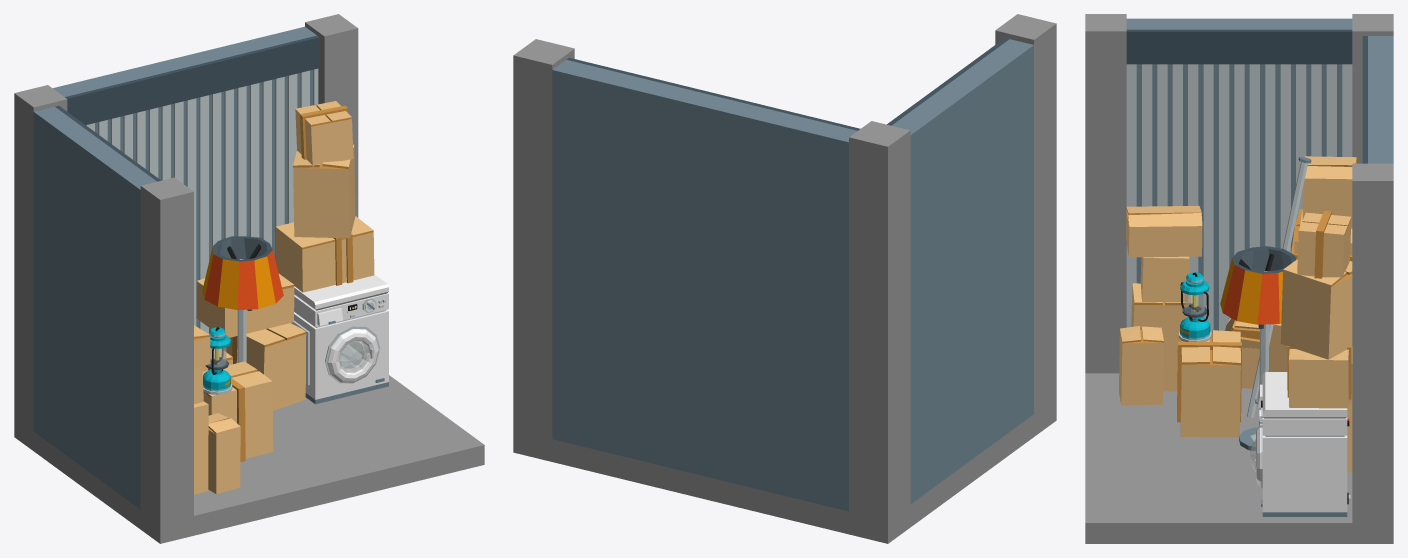
Rendered from scene_XHfKQj6GqX.glb.
3 views of the same model, side by side, from view 1: azimuth 30°, elevation 25°; view 2: azimuth 150°, elevation 25°; view 3: azimuth 270°, elevation 25° (orthographic). The views are drawn at different scales.
Parts seen in each view (by area): view 1: group1795877011, group265941632, group1376369656, group5960018, group949337141, group1230994830, group1651103497, group2018560499, group1634244934, group2086031803, group669103593, group1033397066 (+19 smaller); view 2: group949337141, group1795877011, group1651103497, group669103593, group265941632, group1376369656, group1230994830, group2117793300; view 3: group265941632, group614783319, group1795877011, group669103593, group1376369656, group5960018, group2117793300, group1033397066, group2086031803, group2018560499, group467543358, group1634244934 (+14 smaller).
Boxes of the visible parts, box(x1,y1,x2,y2) form: group1795877011: box(33, 106, 156, 509); group265941632: box(14, 375, 484, 543); group1376369656: box(140, 177, 193, 523); group5960018: box(291, 274, 388, 404); group949337141: box(53, 26, 316, 329); group1230994830: box(65, 35, 319, 124); group1651103497: box(14, 85, 67, 430); group2018560499: box(202, 236, 283, 362); group1634244934: box(275, 216, 374, 292); group2086031803: box(293, 144, 355, 238); group669103593: box(305, 14, 358, 217); group1033397066: box(202, 361, 273, 462); group949337141: box(552, 60, 857, 511); group1795877011: box(891, 39, 1033, 503); group1651103497: box(849, 121, 910, 520); group669103593: box(513, 39, 574, 438); group265941632: box(513, 398, 1056, 543); group1376369656: box(995, 14, 1056, 413); group1230994830: box(566, 57, 860, 130); group2117793300: box(887, 38, 1009, 125); group265941632: box(1085, 373, 1393, 543); group614783319: box(1126, 64, 1352, 333); group1795877011: box(1126, 18, 1352, 330); group669103593: box(1352, 163, 1393, 522); group1376369656: box(1085, 14, 1126, 373); group5960018: box(1250, 372, 1350, 516); group2117793300: box(1126, 29, 1352, 64); group1033397066: box(1177, 330, 1241, 437); group2086031803: box(1280, 259, 1352, 359); group2018560499: box(1220, 246, 1296, 451); group467543358: box(1126, 205, 1202, 257); group1634244934: box(1287, 345, 1351, 408).
Size of the model in its own units: 1.54 by 1.56 by 1.2.
